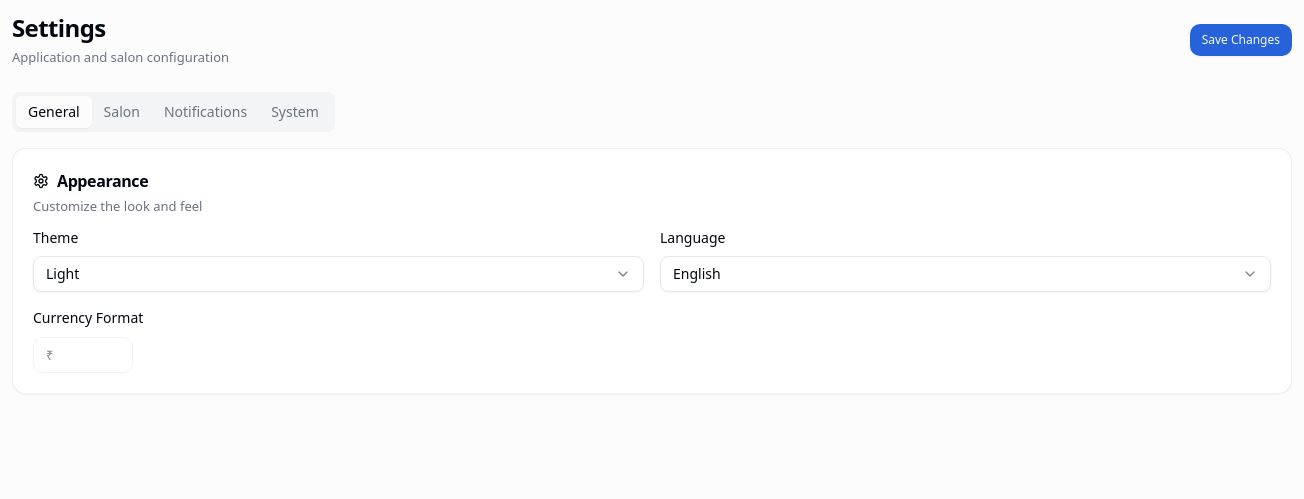
Test: SettingsPage › switches to System tab on click
The width and height of the screenshot is (1304, 499).
Click the tab "System" at (295,112), box [259,96,331,128]
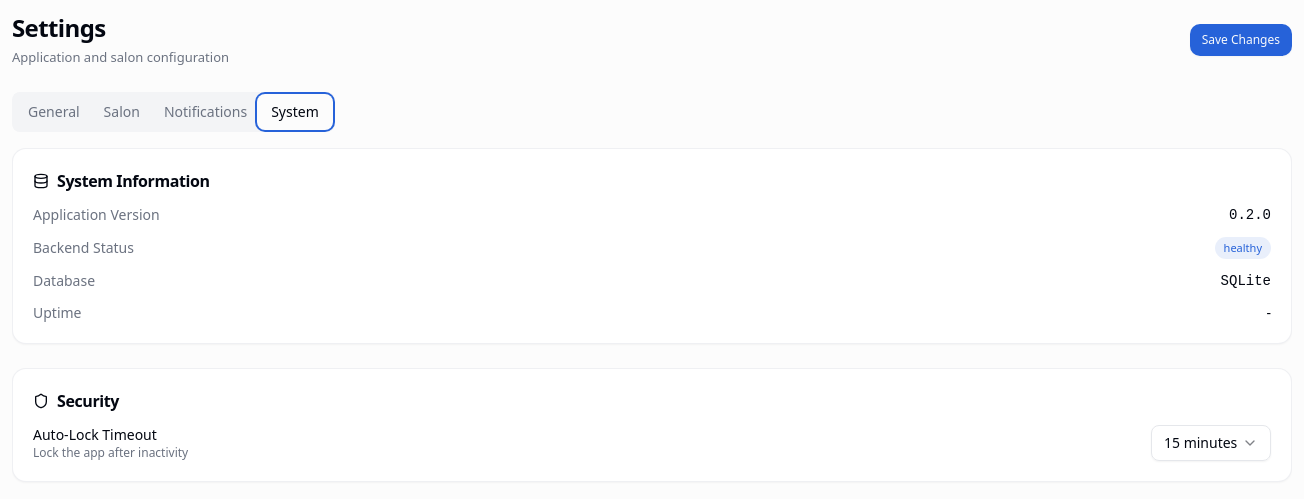
Result: the heading "System Information" is shown at [33,170,210,192]
